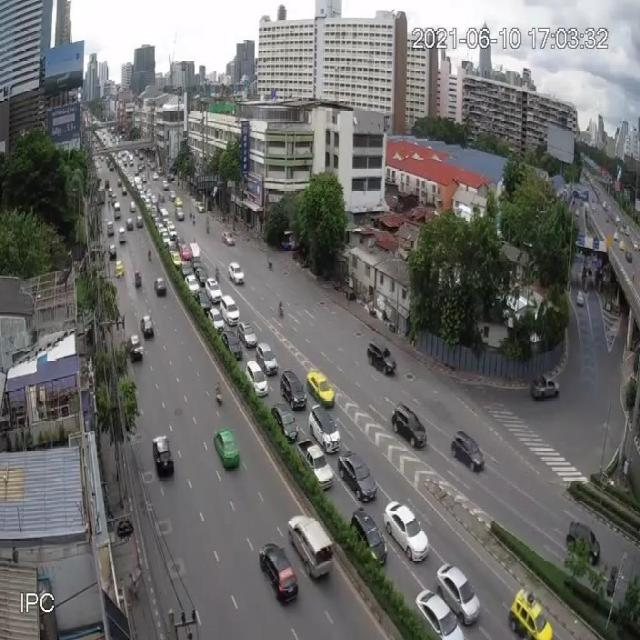Car: (286, 514, 334, 582), (435, 561, 479, 625), (384, 501, 430, 561), (414, 588, 464, 639), (258, 542, 298, 604), (508, 588, 554, 639), (352, 506, 387, 569), (338, 451, 377, 502), (392, 402, 428, 448), (308, 403, 341, 453), (566, 520, 600, 564), (451, 430, 485, 473), (213, 428, 240, 471), (280, 368, 307, 409), (306, 370, 334, 409), (367, 342, 398, 377), (271, 403, 298, 441), (152, 434, 174, 477), (246, 360, 270, 397), (220, 328, 243, 359), (255, 342, 277, 374), (220, 294, 239, 326), (238, 321, 258, 348), (207, 307, 225, 334), (195, 288, 213, 314), (205, 278, 222, 305), (129, 335, 144, 362), (606, 565, 619, 596), (228, 262, 244, 285), (184, 274, 200, 297), (140, 314, 154, 338), (193, 265, 208, 286), (154, 276, 167, 296), (180, 260, 193, 278), (179, 244, 192, 262), (222, 231, 236, 247), (167, 222, 177, 242), (172, 252, 182, 270), (115, 260, 125, 278), (162, 232, 171, 249), (576, 291, 585, 306), (108, 243, 116, 259), (118, 226, 126, 242), (216, 388, 223, 405), (619, 240, 628, 253), (136, 214, 144, 228), (196, 202, 206, 213), (107, 220, 114, 235), (126, 216, 133, 230), (176, 208, 184, 220), (168, 190, 176, 202), (109, 190, 116, 203), (175, 196, 182, 208), (121, 184, 128, 195), (162, 179, 169, 190), (626, 250, 632, 262), (130, 200, 136, 212), (603, 203, 609, 214), (594, 194, 600, 205), (613, 232, 619, 242), (167, 174, 174, 182), (635, 240, 640, 250), (624, 226, 630, 234), (117, 179, 122, 188), (575, 208, 579, 218), (616, 216, 620, 225), (592, 202, 596, 211)
Cycle: (266, 258, 272, 270), (279, 306, 284, 317)
Truck: (298, 438, 334, 491), (530, 373, 559, 400)
Van: (190, 242, 201, 270), (159, 207, 170, 227), (113, 201, 121, 219)
